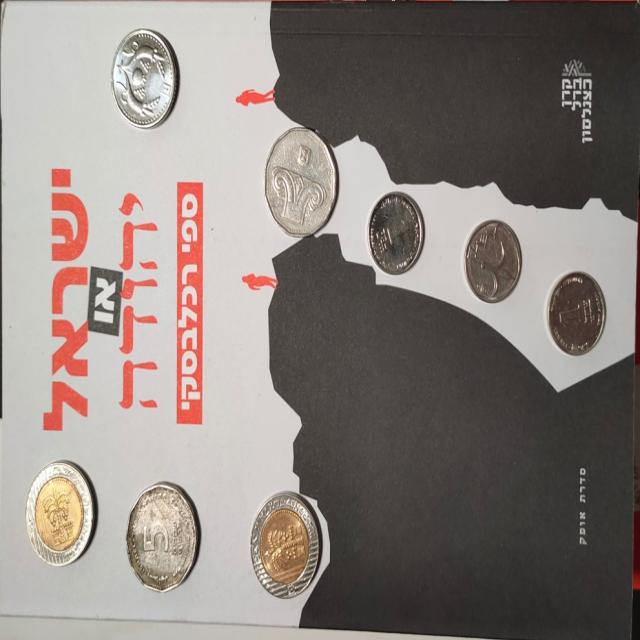1-shekel: (368, 191, 428, 281), (546, 266, 604, 352), (466, 218, 522, 300)
10-shekel: (248, 482, 326, 602), (23, 461, 96, 569)
2-shekel: (111, 28, 182, 132)
5-shekel: (262, 125, 342, 245), (128, 481, 199, 592)
